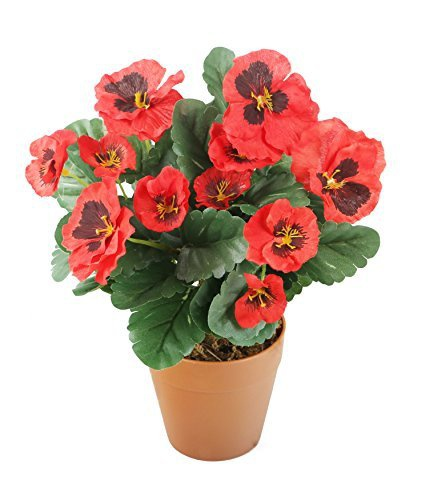flowerpot: (145, 320, 287, 459)
